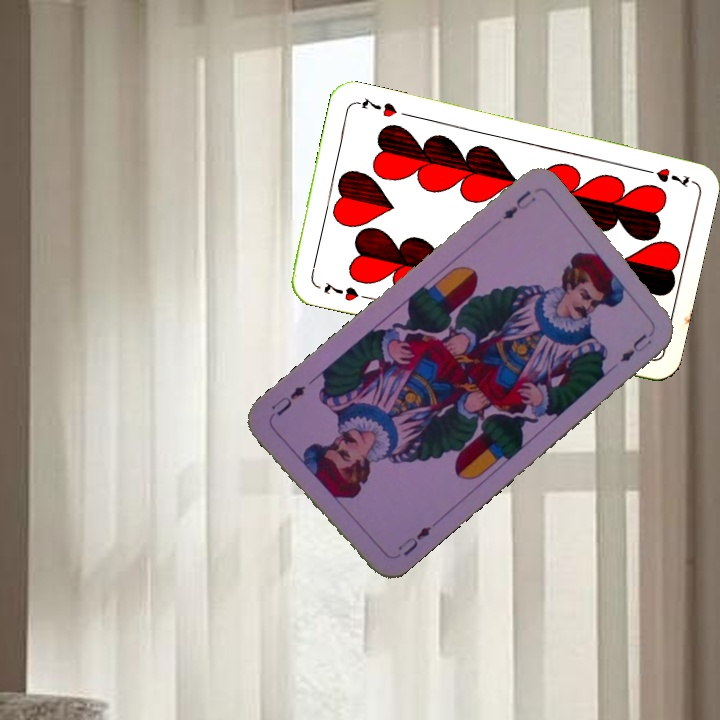EU: (498, 186, 539, 223), (394, 522, 434, 559)
H7: (636, 164, 692, 191), (320, 277, 361, 304)
